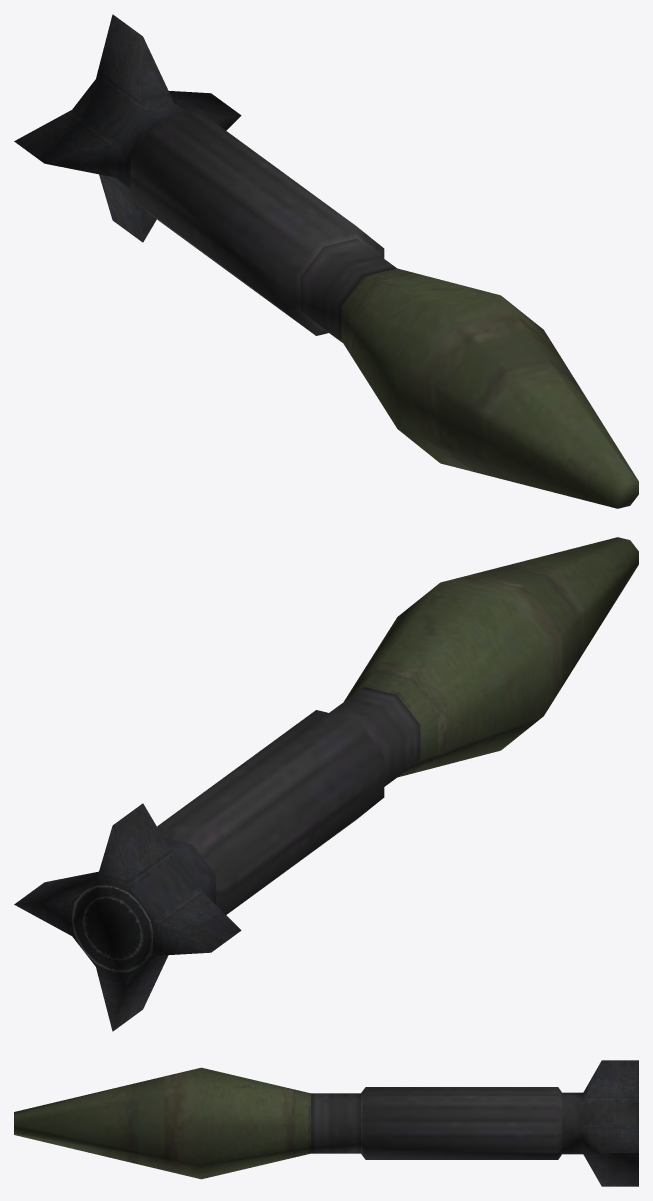
Rendered from rocketlauncher_shell.fbx.
3 views of the same model, one above another, from view 1: azimuth 30°, elevation 25°; view 2: azimuth 150°, elevation 25°; view 3: azimuth 270°, elevation 25° (orthographic). The views are drawn at different scales.
Visible parts, largest first — view 1: rocketlauncher_shell; view 2: rocketlauncher_shell; view 3: rocketlauncher_shell.
Part boxes in pixels (left/top/right/bottom): rocketlauncher_shell: left=14, top=14, right=638, bottom=508; rocketlauncher_shell: left=14, top=537, right=638, bottom=1031; rocketlauncher_shell: left=14, top=1060, right=638, bottom=1186.
Bounding box in the file's own units: 4.03 × 4.03 × 18.11.
